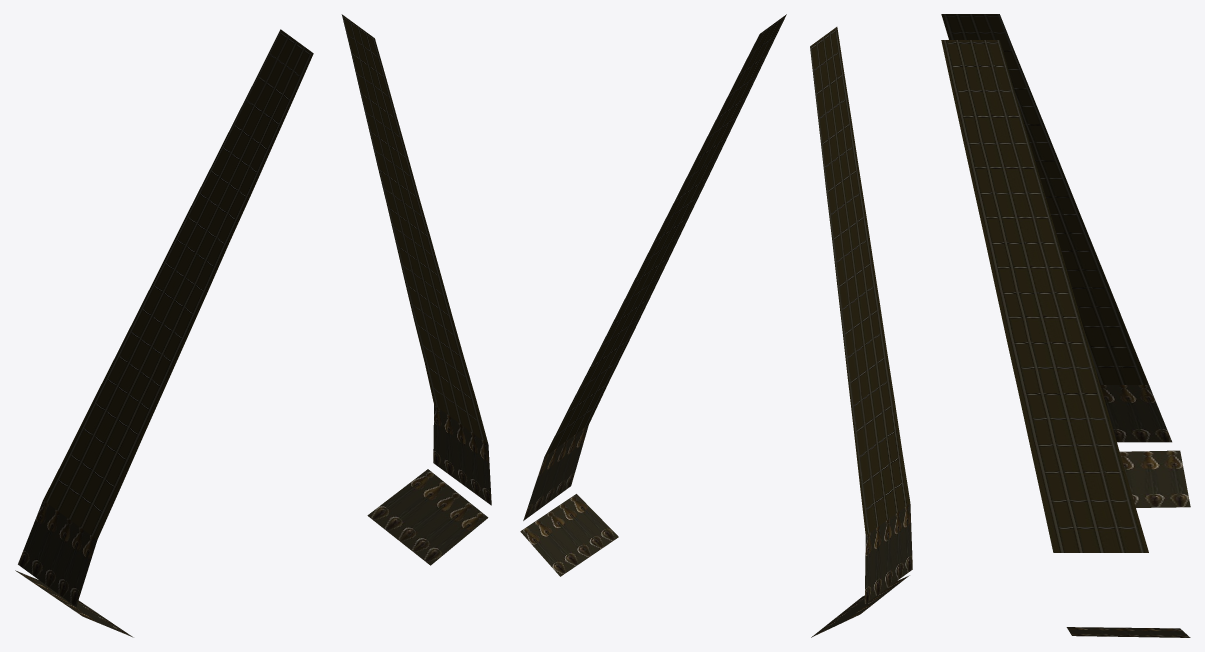
The model's file is goliath-rigging_0.fbx.
3 renders of one model, left to right at view 1: azimuth 30°, elevation 25°; view 2: azimuth 150°, elevation 25°; view 3: azimuth 270°, elevation 25°, orthographic. The views are drawn at different scales.
Visible parts, largest first — view 1: rigging, riggingmount_pulleys5, pullys_1b2, pullys_1b4, riggingmount_pulleys3; view 2: rigging, riggingmount_pulleys5, pullys_1b2, pullys_1b4, riggingmount_pulleys3; view 3: rigging, riggingmount_pulleys3, pullys_1b2, riggingmount_pulleys5.
Boxes of the visible parts, x1,y1,x2,y2 form: rigging: (43, 14, 488, 539); riggingmount_pulleys5: (367, 469, 488, 565); pullys_1b2: (18, 500, 97, 606); pullys_1b4: (433, 405, 491, 505); riggingmount_pulleys3: (15, 570, 133, 637); rigging: (544, 14, 910, 535); riggingmount_pulleys5: (520, 494, 618, 576); pullys_1b2: (864, 503, 912, 604); pullys_1b4: (523, 425, 588, 520); riggingmount_pulleys3: (811, 575, 909, 637); rigging: (941, 14, 1148, 552); riggingmount_pulleys3: (1120, 450, 1190, 507); pullys_1b2: (1100, 385, 1171, 442); riggingmount_pulleys5: (1066, 627, 1190, 637).
Bounding box in the file's own units: 14706 × 20754 × 8684.
1 material, 1 textured.
